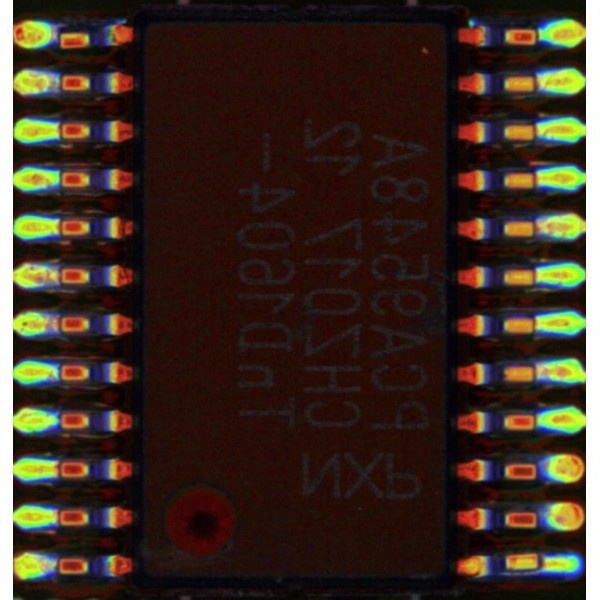Bad_podu: (38, 269, 71, 284), (517, 366, 554, 379), (42, 462, 74, 477), (40, 319, 74, 331), (531, 562, 558, 570)
Bad_qiaojiao: (496, 570, 539, 577)
